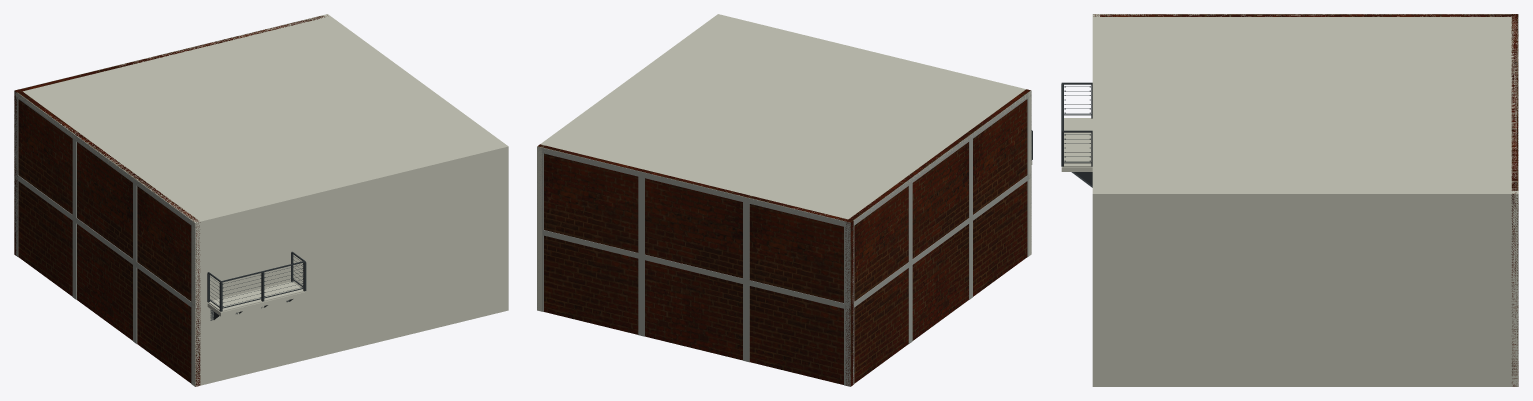
The model's file is building.glb.
3 views of the same model, side by side, from view 1: azimuth 30°, elevation 25°; view 2: azimuth 150°, elevation 25°; view 3: azimuth 270°, elevation 25° (orthographic). The views are drawn at different scales.
Parts seen in each view (by area): view 1: roof/house:0/roof_slab#0001, house:0/edge0/z0/house:0/edge0/z0/wall_0_0, house:0/edge3/z0/house:0/edge3/z0/wall_0_0, house:0/edge2/z0/house:0/edge2/z0/wall_0_0, house:0/edge3/z0/house:0/edge3/z0/beam_0_0, house:0/edge3/z0/house:0/edge3/z0/beam_1_0, house:0/edge1/z0/house:0/edge1/z0/wall_0_0, balcony/sample/balcony_platform#0001, balcony/sample/balcony_fascia#0001; view 2: roof/house:0/roof_slab#0001, house:0/edge2/z0/house:0/edge2/z0/wall_0_0, house:0/edge3/z0/house:0/edge3/z0/wall_0_0, house:0/edge1/z0/house:0/edge1/z0/wall_0_0, house:0/edge2/z0/house:0/edge2/z0/beam_1_0, house:0/edge2/z0/house:0/edge2/z0/beam_0_0, house:0/edge0/z0/house:0/edge0/z0/wall_0_0, house:0/edge3/z0/house:0/edge3/z0/beam_0_0, house:0/edge3/z0/house:0/edge3/z0/beam_1_0, house:0/edge2/z0/house:0/edge2/z0/column_2_0, house:0/edge2/z0/house:0/edge2/z0/column_2_1, house:0/edge2/z0/house:0/edge2/z0/column_3_0 (+3 smaller); view 3: house:0/edge1/z0/house:0/edge1/z0/wall_0_0, roof/house:0/roof_slab#0001, house:0/edge0/z0/house:0/edge0/z0/wall_0_0, house:0/edge2/z0/house:0/edge2/z0/wall_0_0, balcony/sample/balcony_platform#0001, house:0/edge3/z0/house:0/edge3/z0/wall_0_0.
Boxes of the visible parts, x1,y1,x2,y2 form: roof/house:0/roof_slab#0001: (15,14,506,225); house:0/edge0/z0/house:0/edge0/z0/wall_0_0: (192,144,508,386); house:0/edge3/z0/house:0/edge3/z0/wall_0_0: (17,89,200,386); house:0/edge2/z0/house:0/edge2/z0/wall_0_0: (14,15,327,255); house:0/edge3/z0/house:0/edge3/z0/beam_0_0: (14,173,195,309); house:0/edge3/z0/house:0/edge3/z0/beam_1_0: (14,92,195,227); house:0/edge1/z0/house:0/edge1/z0/wall_0_0: (323,14,508,311); balcony/sample/balcony_platform#0001: (208,281,304,312); balcony/sample/balcony_fascia#0001: (207,291,305,316); roof/house:0/roof_slab#0001: (540,14,1031,223); house:0/edge2/z0/house:0/edge2/z0/wall_0_0: (538,144,853,386); house:0/edge3/z0/house:0/edge3/z0/wall_0_0: (845,89,1030,385); house:0/edge1/z0/house:0/edge1/z0/wall_0_0: (537,15,722,311); house:0/edge2/z0/house:0/edge2/z0/beam_1_0: (538,147,850,228); house:0/edge2/z0/house:0/edge2/z0/beam_0_0: (542,230,850,309); house:0/edge0/z0/house:0/edge0/z0/wall_0_0: (717,14,1031,256); house:0/edge3/z0/house:0/edge3/z0/beam_0_0: (850,172,1031,309); house:0/edge3/z0/house:0/edge3/z0/beam_1_0: (850,90,1031,227); house:0/edge2/z0/house:0/edge2/z0/column_2_0: (638,176,644,254); house:0/edge2/z0/house:0/edge2/z0/column_2_1: (638,258,644,336); house:0/edge2/z0/house:0/edge2/z0/column_3_0: (743,202,749,280); house:0/edge1/z0/house:0/edge1/z0/wall_0_0: (1092,191,1518,386); roof/house:0/roof_slab#0001: (1092,14,1518,198); house:0/edge0/z0/house:0/edge0/z0/wall_0_0: (1092,14,1099,386); house:0/edge2/z0/house:0/edge2/z0/wall_0_0: (1511,14,1518,386); balcony/sample/balcony_platform#0001: (1063,118,1092,167); house:0/edge3/z0/house:0/edge3/z0/wall_0_0: (1093,14,1517,16).
Size of the model in its own units: 12 by 6 by 12.89.
4 materials, 1 textured.
